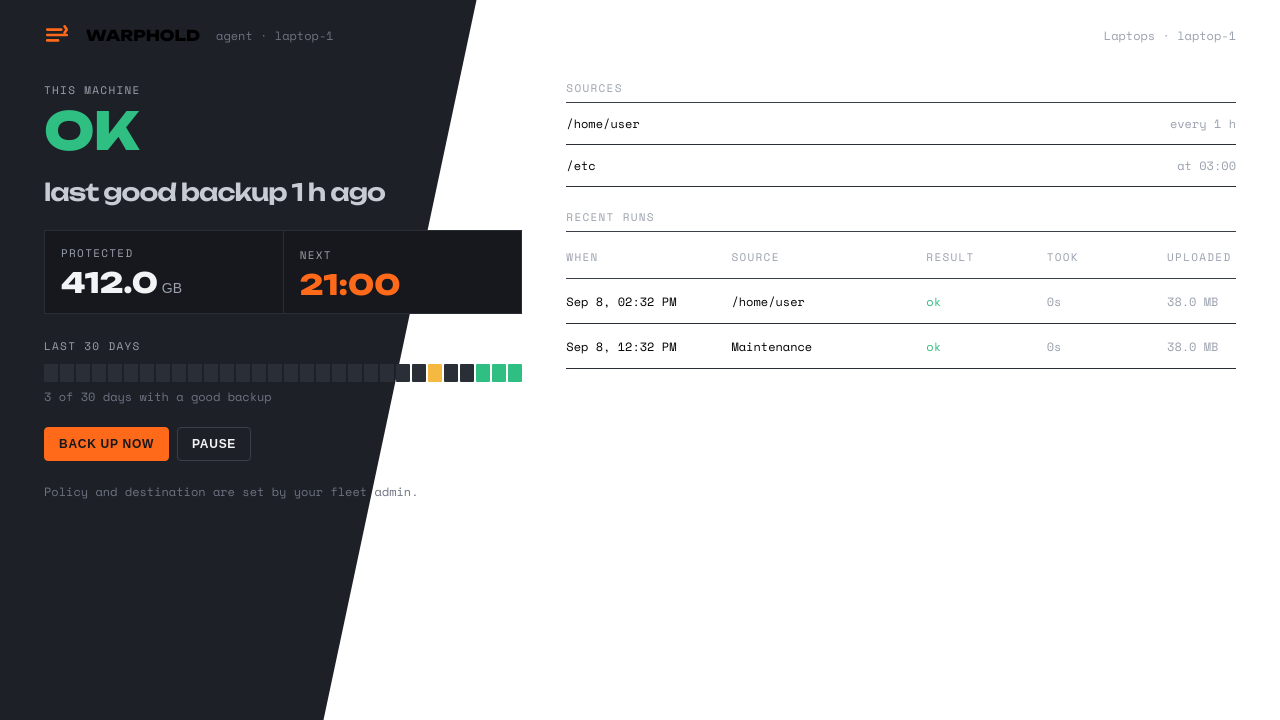
AgentHome › reports a failed action rather than pretending it worked
The image size is (1280, 720).
Click the button "Back up now" at (106,444), box [44,427,169,461]
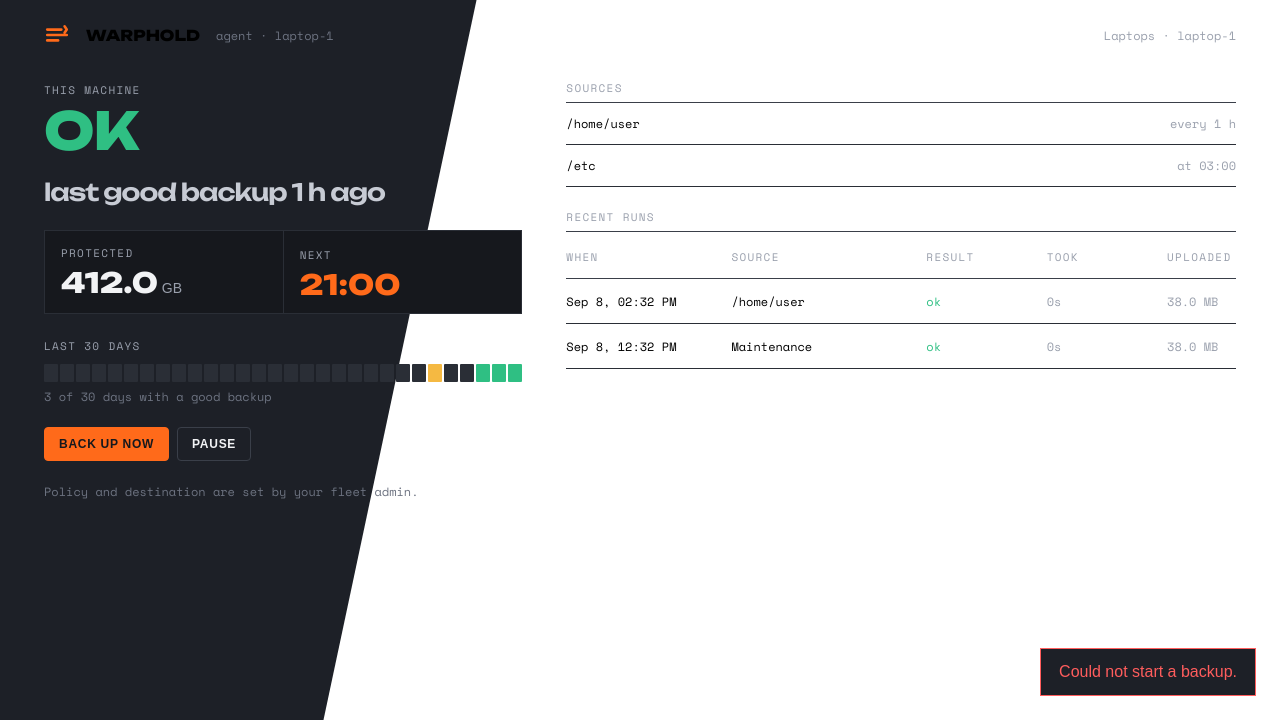
Expected: the message reads "Could not start a backup.", [1059,663,1237,680]
